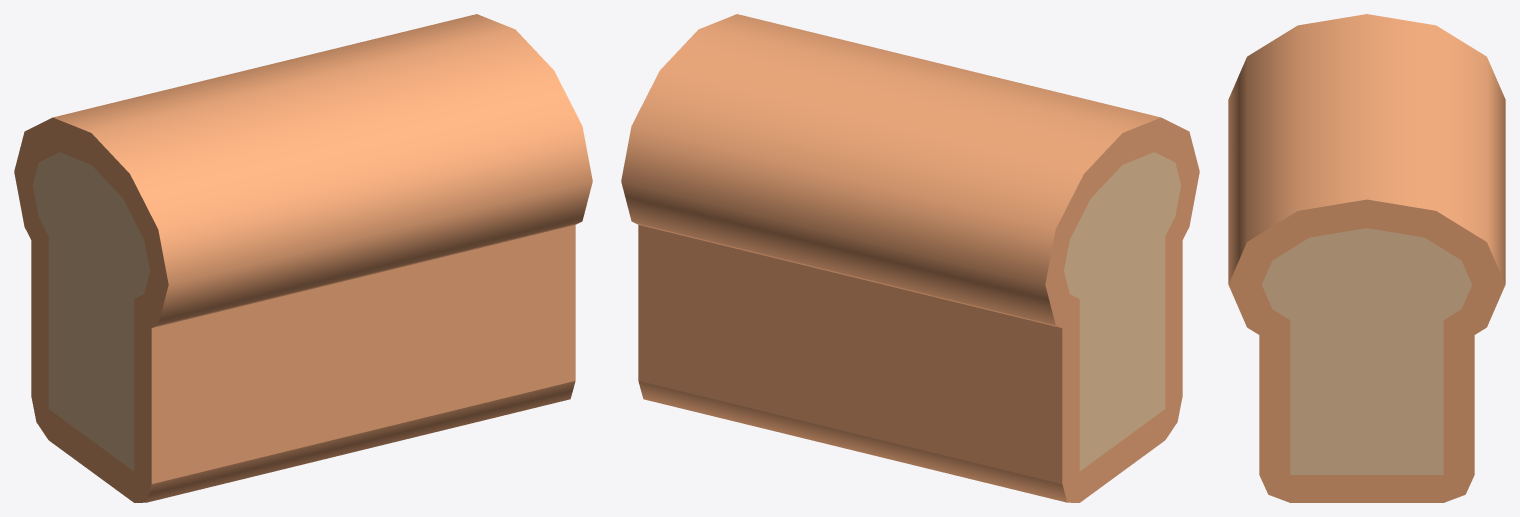
File: Loaf.glb
3 views of the same model, side by side, from view 1: azimuth 30°, elevation 25°; view 2: azimuth 150°, elevation 25°; view 3: azimuth 270°, elevation 25° (orthographic). The views are drawn at different scales.
Visible parts, largest first — view 1: Loaf; view 2: Loaf; view 3: Loaf.
Part boxes in pixels (x1,y1,x2,y2): Loaf: (14, 14, 592, 502); Loaf: (621, 14, 1199, 502); Loaf: (1228, 14, 1505, 502).
Bounding box in the file's own units: 0.5797 × 0.4423 × 0.3659.
